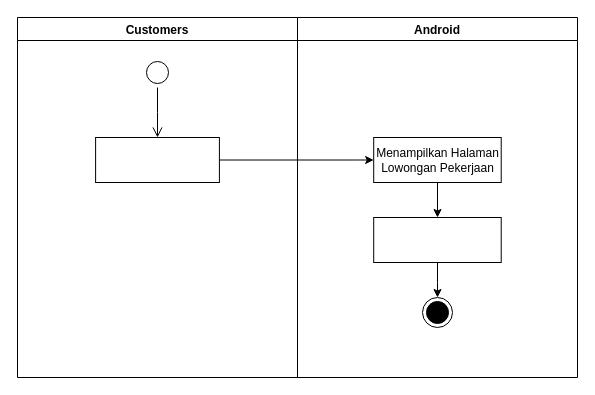
Image size: 595x395. Some labels were removed from this diagram. The centre of each missing label's shape, as x and y in pixels:
"Akses halaman Lowongan Pekerjaan" goes at [157,159].
"Menampilkan Detail Lowongan Pekerjaan" goes at [437,239].
